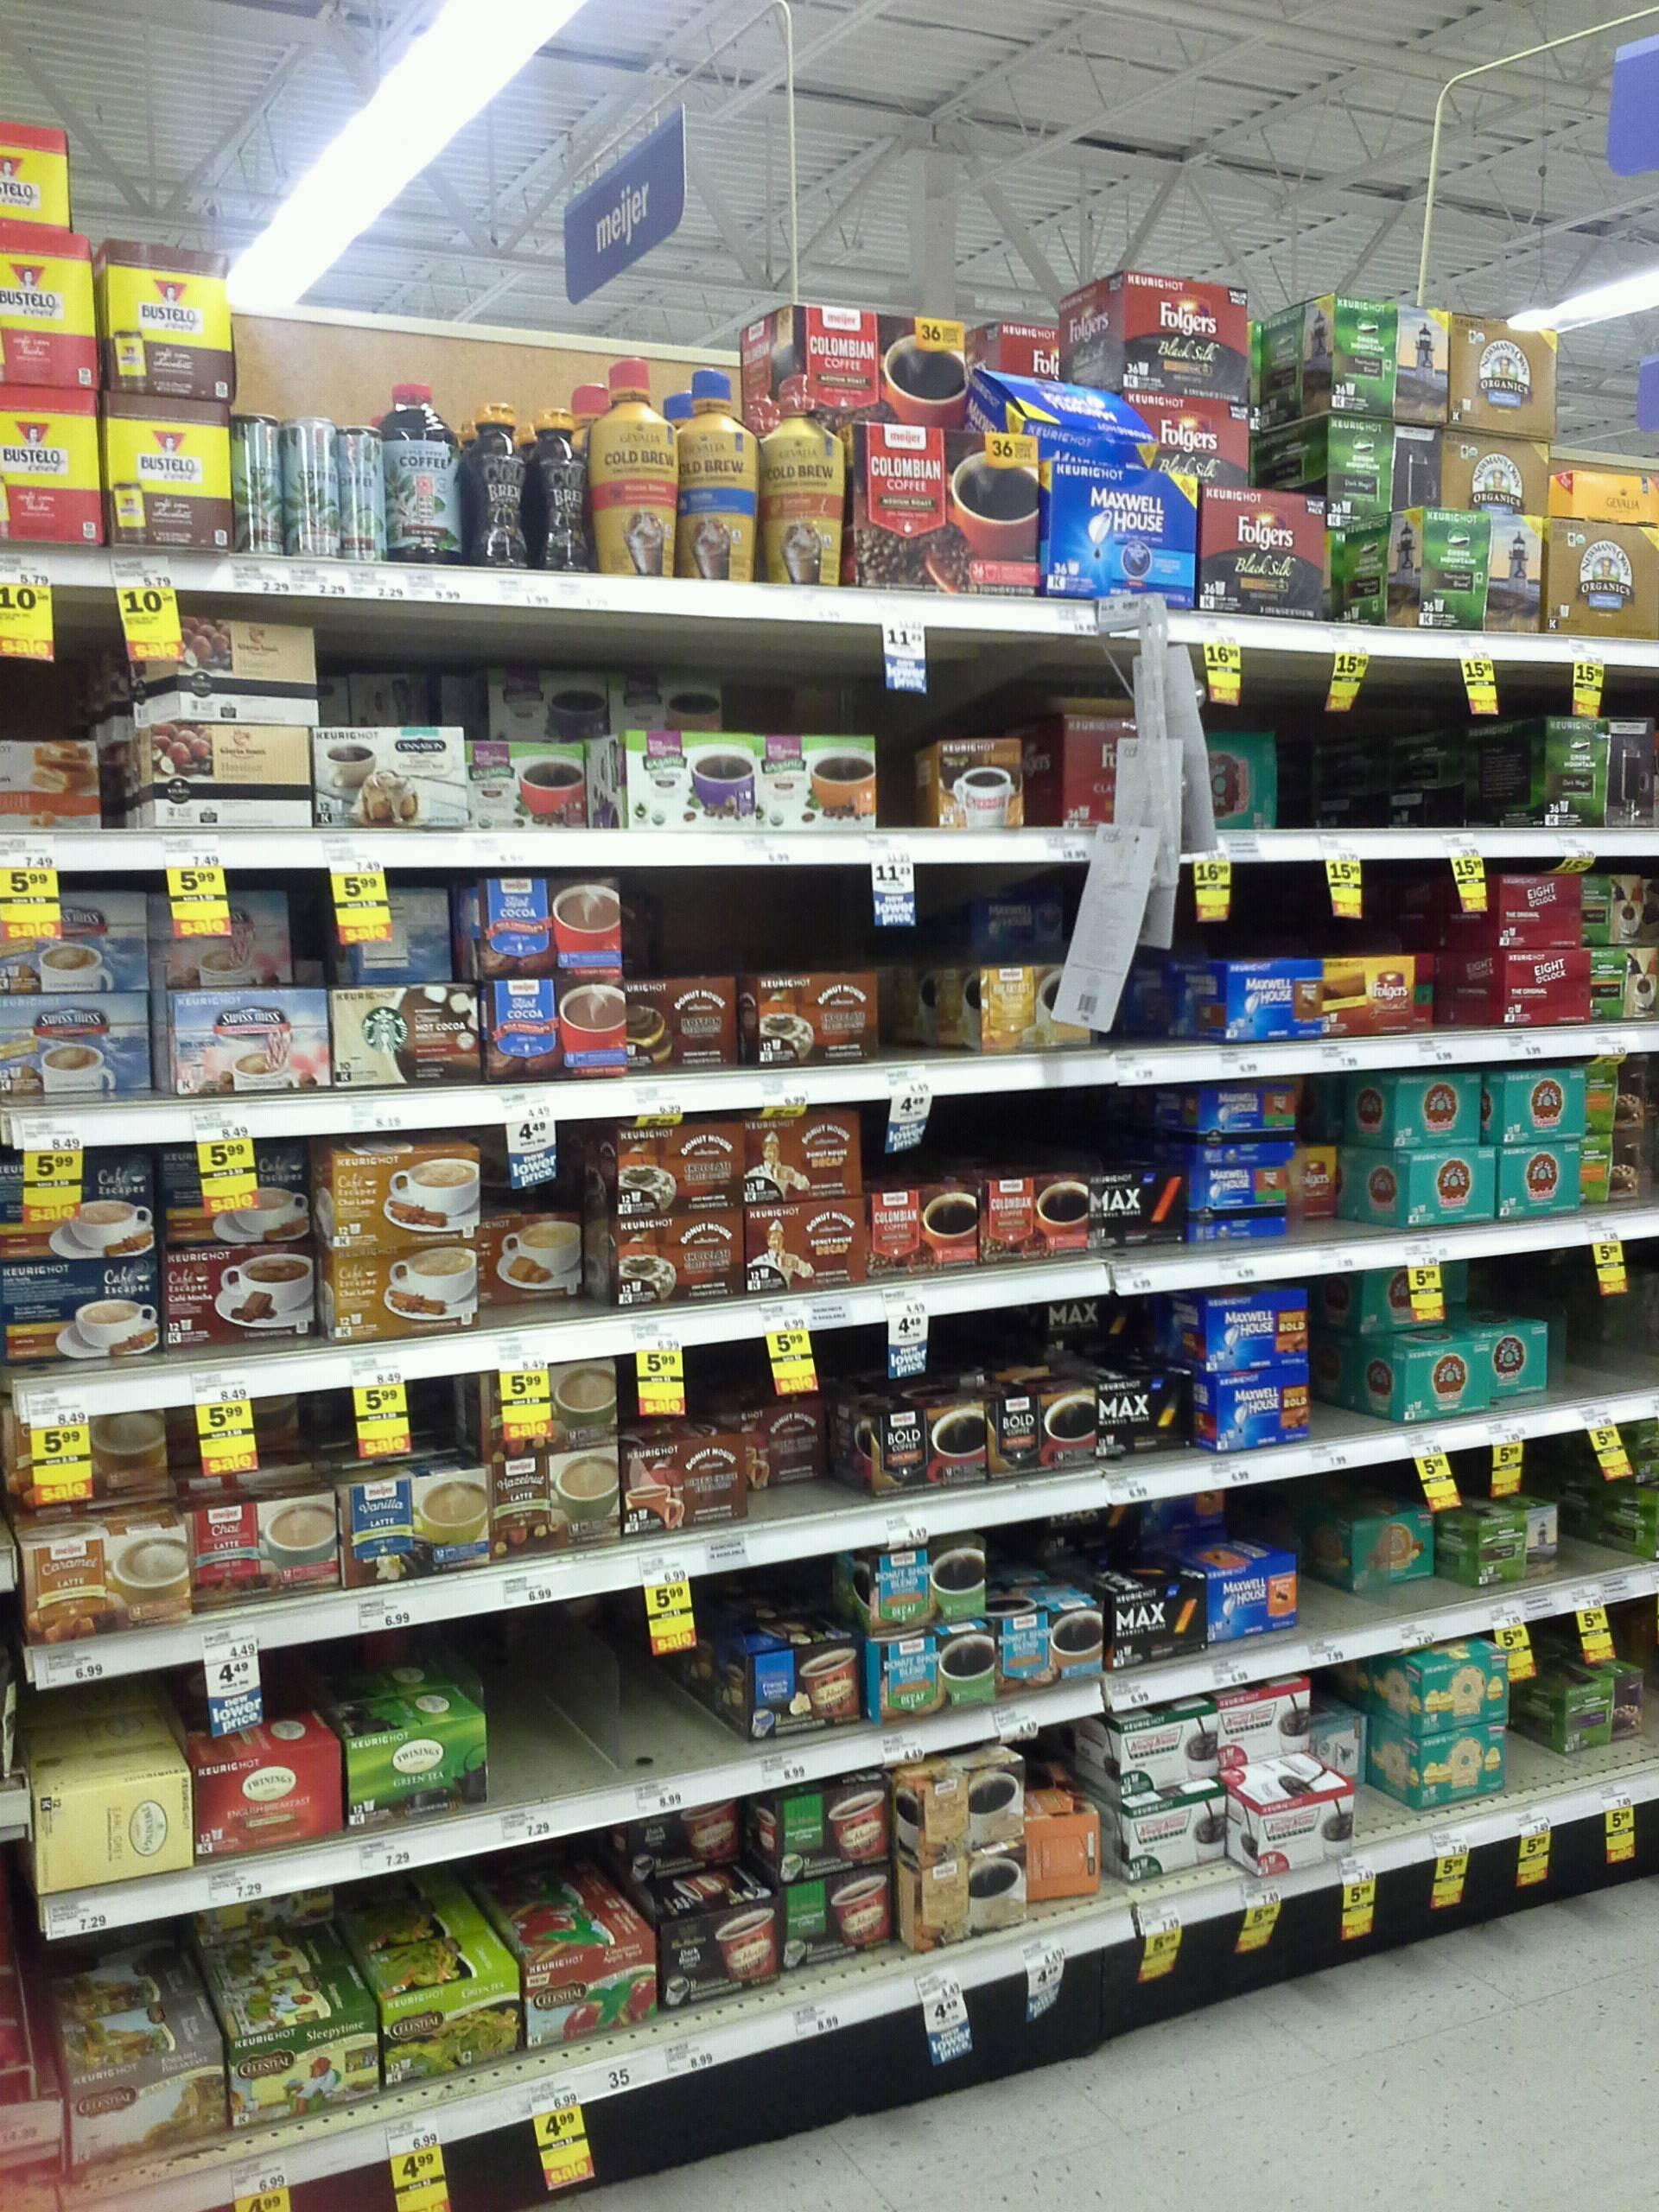Misplacement: (321, 669, 871, 866), (3, 881, 173, 1122), (152, 874, 326, 1097), (324, 881, 488, 1089), (1037, 1289, 1215, 1475), (484, 1123, 619, 1336), (692, 1406, 877, 1529), (1344, 1493, 1485, 1622), (1298, 1714, 1422, 1838), (1288, 1146, 1399, 1245)
Out-of-stock: (477, 1604, 755, 1804), (1277, 683, 1523, 840), (1303, 1298, 1399, 1439), (871, 972, 986, 1068), (1544, 1306, 1642, 1407), (1560, 1491, 1643, 1590), (1509, 1677, 1570, 1810)
